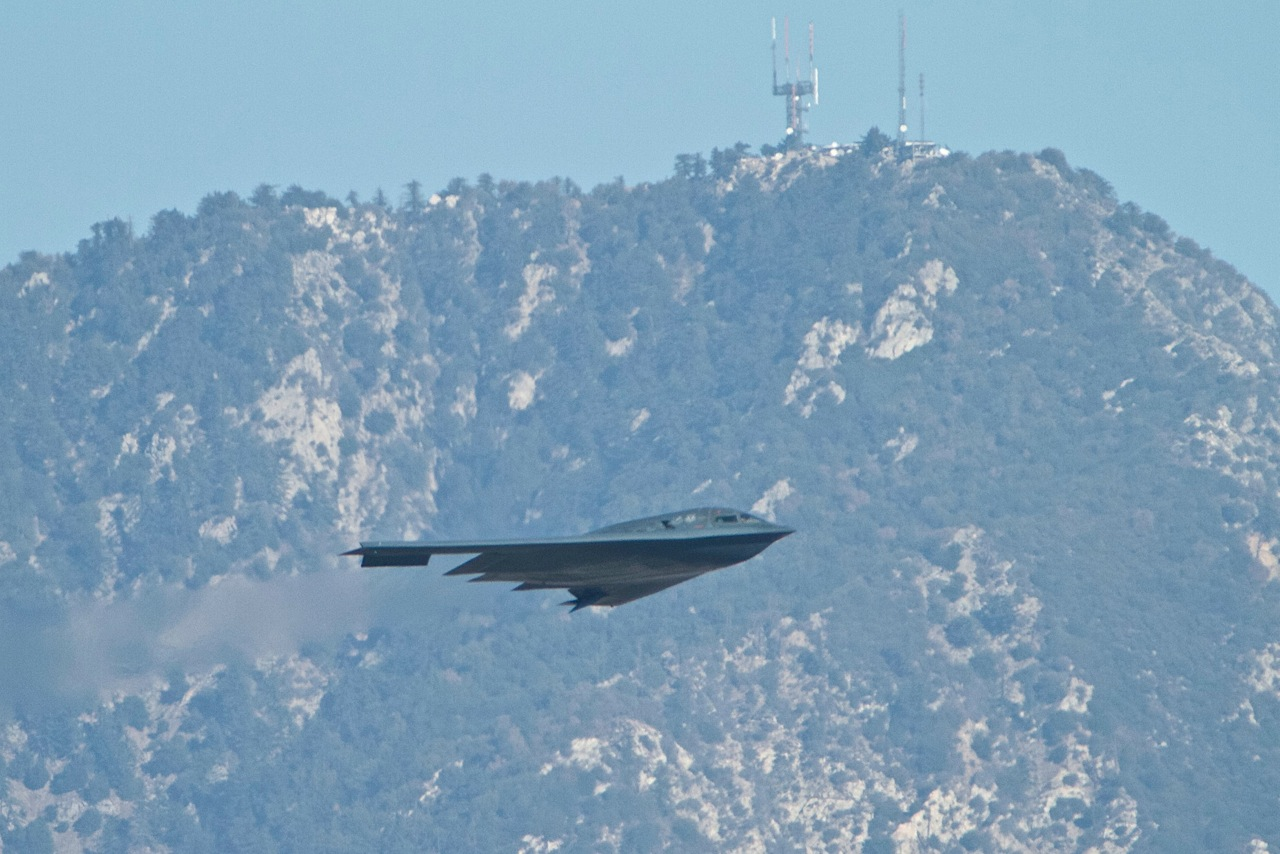B2: (335, 506, 796, 615)
